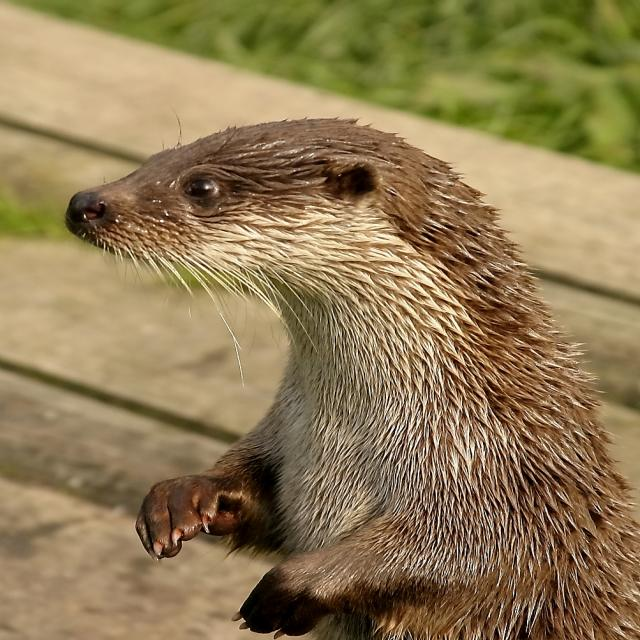otter: (68, 120, 640, 640)
